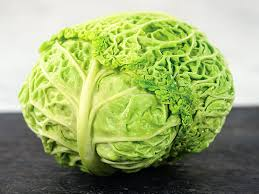cabbage: (21, 19, 242, 179)
